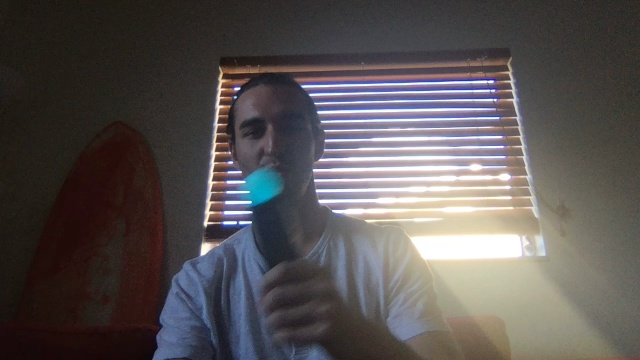wand: (244, 171, 283, 204)
